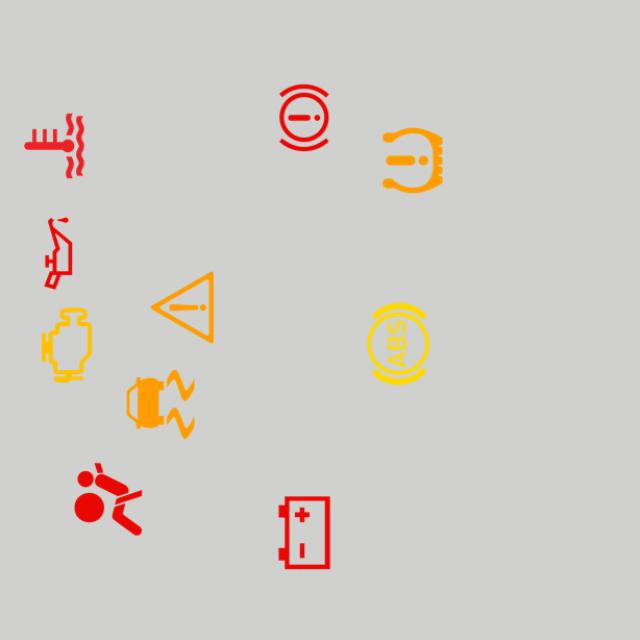Anti Lock Braking System: (353, 299, 443, 389)
Braking System Issue: (260, 73, 349, 163)
Charging System Issue: (260, 488, 349, 577)
Check Engine: (22, 300, 111, 390)
Electronic Stability Problem -ESP-: (116, 360, 205, 449)
Engine Overheating Warning Light: (9, 101, 99, 191)
Low Engine Oil Warning Light: (14, 209, 103, 298)
Low Tire Pressure Warning Light: (368, 116, 458, 205)
Master warning light: (138, 263, 227, 352)
SRS-Airbag: (64, 455, 153, 544)
